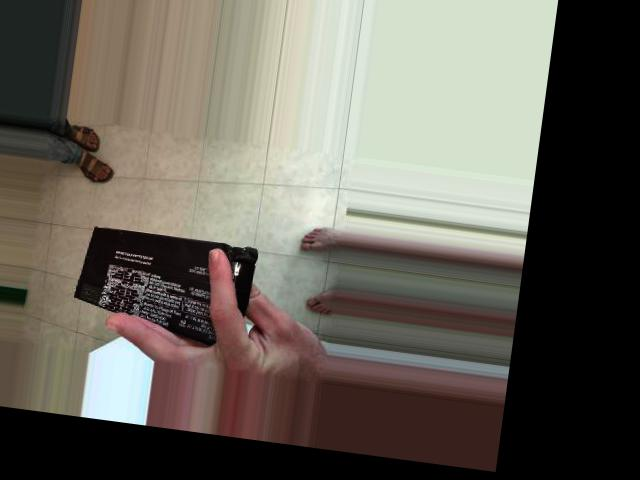chocolate: (124, 135, 256, 329)
